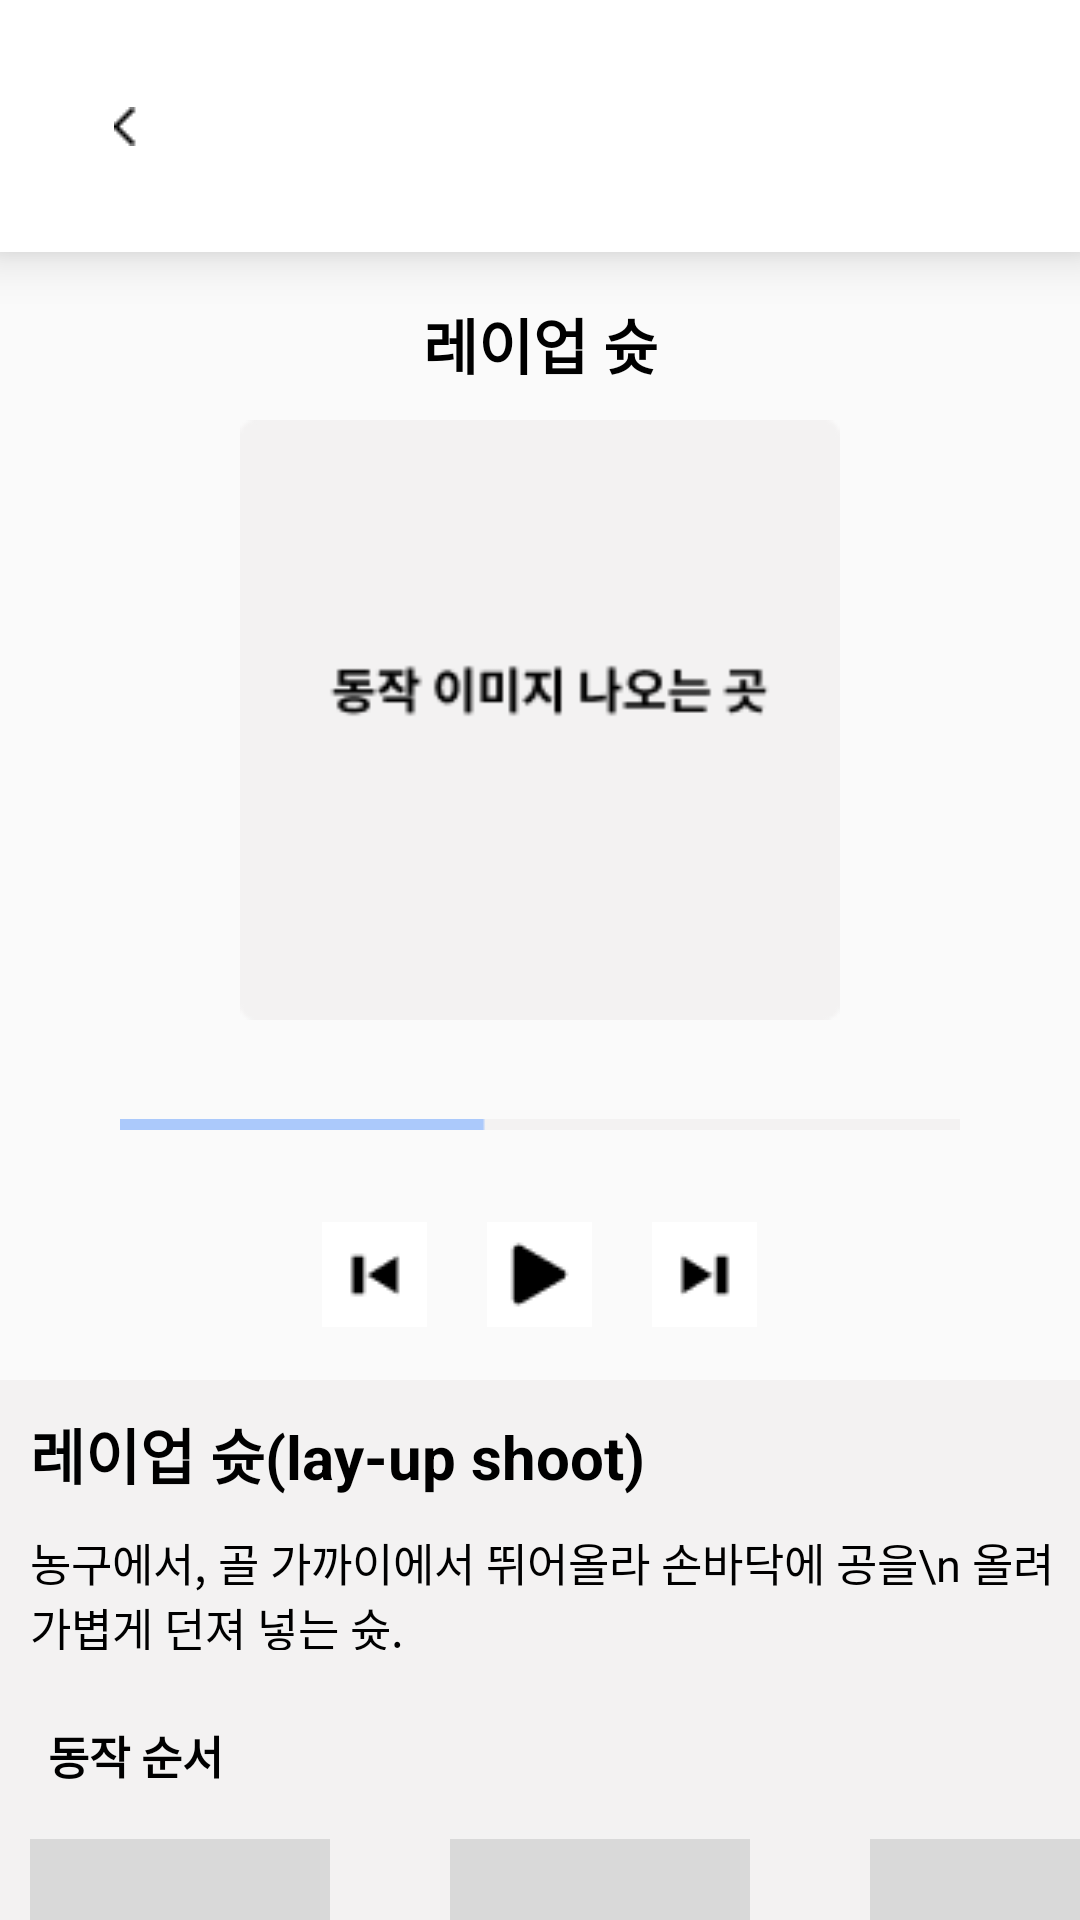

Locate icon controls on the screen. Image size 1080 × 1920, boxes as (x1, y1, x2, y2).
backbutton: (114, 107, 136, 146)
beforeplay: (350, 1254, 400, 1296)
nextplay: (680, 1254, 730, 1296)
stopplay: (511, 1242, 568, 1307)
